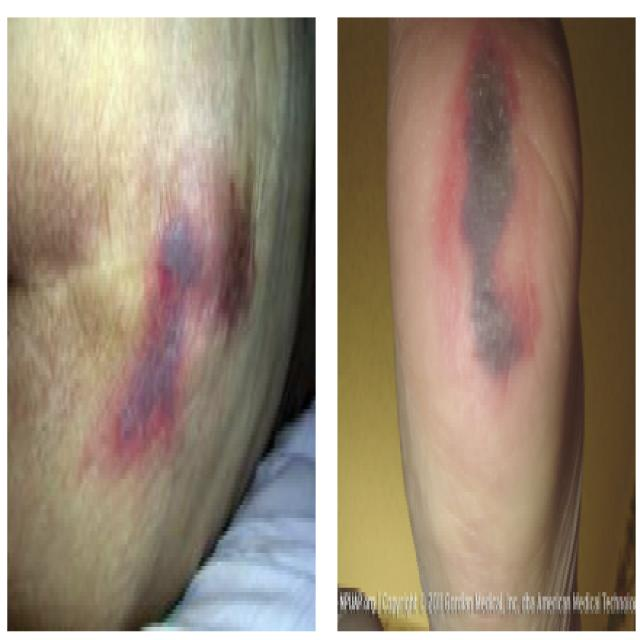DTI: (106, 196, 210, 460), (456, 39, 535, 373), (221, 199, 258, 324)
